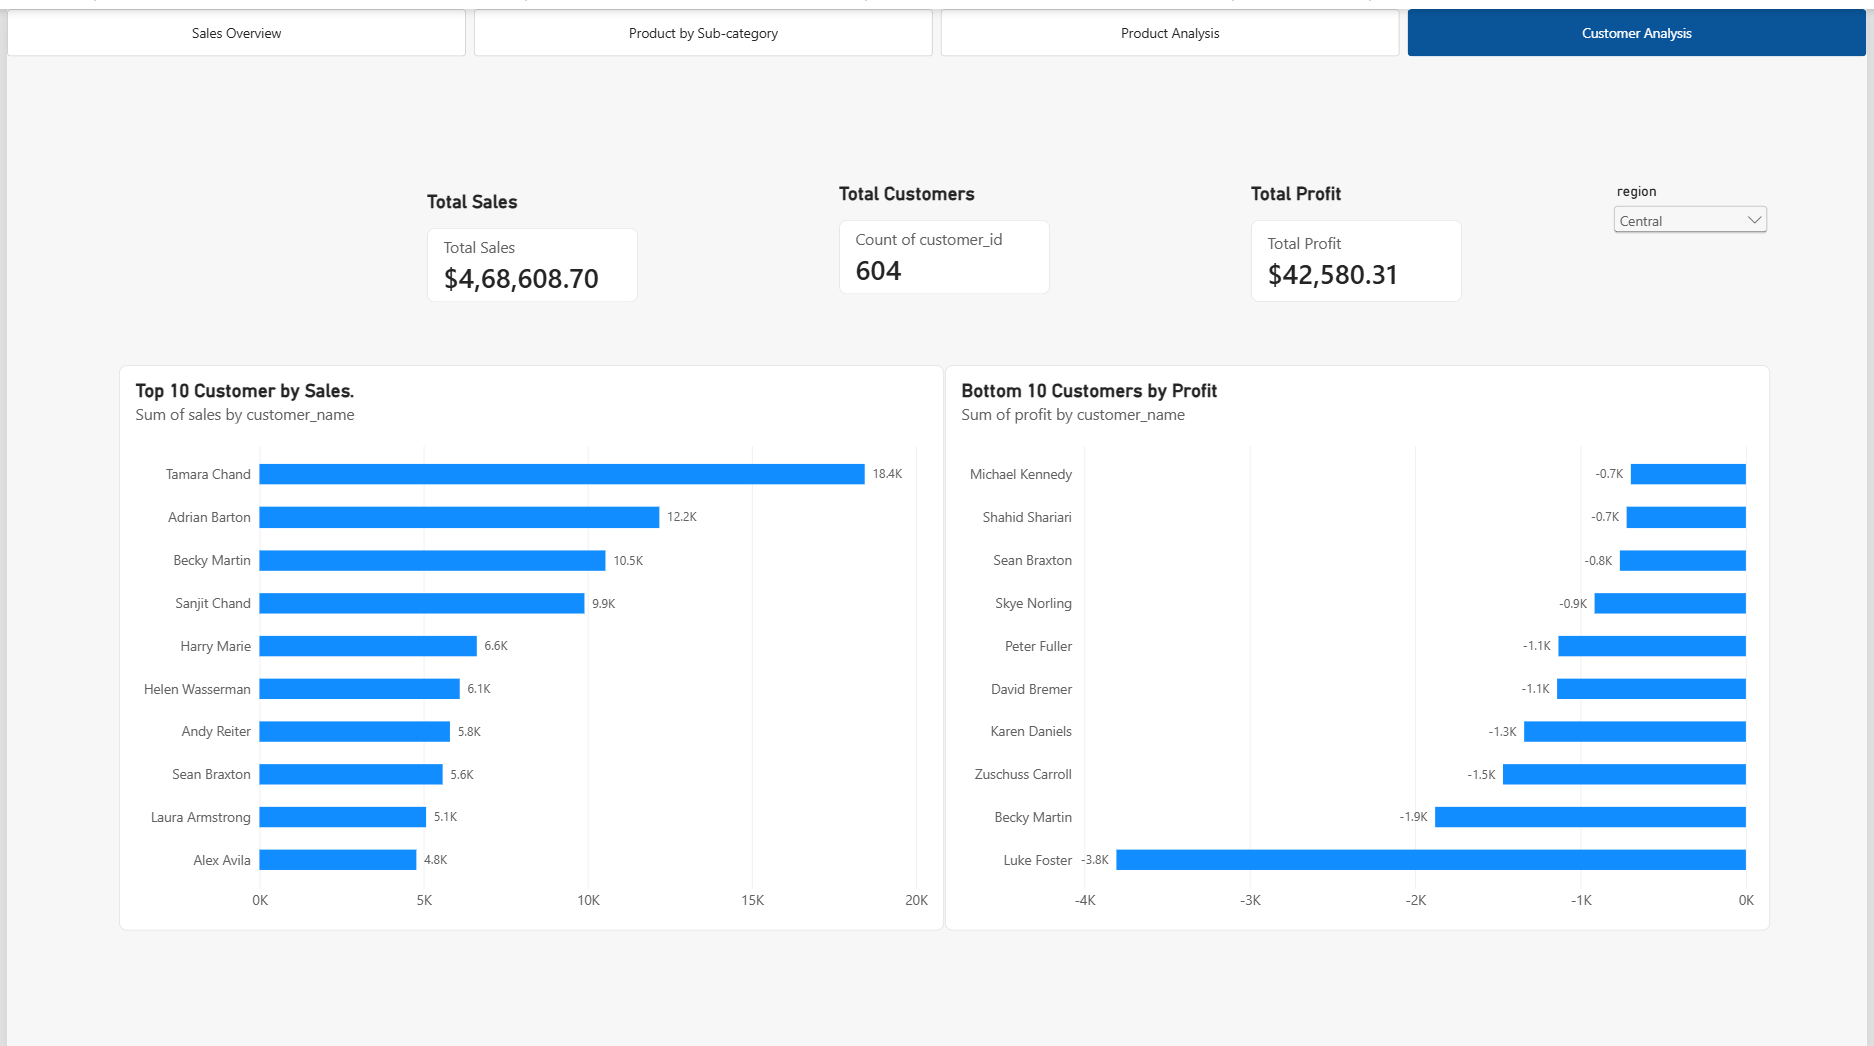

Layout of this report page (visuals, bound fields, positions):
{"tool":"powerbi","page":{"name":"Customer Analysis","canvas":[1920,1080],"ordinal":3},"visuals":[{"type":"clusteredBarChart","title":"Top 10 Customer by Sales.","fields":{"Category":["public superstore_historical.customer_name"],"Y":["Sum(public superstore_historical.sales)"]},"box":[116.3,368.6,851.9,583],"z":0},{"type":"clusteredBarChart","title":"Bottom 10 Customers by Profit","fields":{"Category":["public superstore_historical.customer_name"],"Y":["Sum(public superstore_historical.profit)"]},"box":[968.3,368.6,851.9,583],"z":1000},{"type":"cardVisual","title":"Total Customers","fields":{"Data":["Count(public superstore_historical.customer_id)"]},"box":[859,179.7,218.9,115.6],"z":2000},{"type":"cardVisual","title":"Total Sales","fields":{"Data":["public superstore_historical.Total Sales"]},"box":[433.7,187.9,218.9,115.6],"z":3000},{"type":"cardVisual","title":"Total Profit","fields":{"Data":["public superstore_historical.Total Profit"]},"box":[1284.4,179.7,218.9,123.9],"z":4000},{"type":"slicer","fields":{"Values":["public superstore_historical.region"]},"box":[1654.1,179.7,168.3,52.3],"z":7000},{"type":"pageNavigator","box":[0,0,1920.5,49.6],"z":7001}]}

Visuals, with their boxes in screenshot pixels (x1, y1, x2, y2), scaled from the page's 1920x1080 canvas onto the 1874x1046 screenshot:
"Top 10 Customer by Sales." clusteredBarChart: 114/357/945/922
"Bottom 10 Customers by Profit" clusteredBarChart: 945/357/1777/922
"Total Customers" cardVisual: 838/174/1052/286
"Total Sales" cardVisual: 423/182/637/294
"Total Profit" cardVisual: 1254/174/1467/294
slicer - public superstore_historical.region: 1614/174/1779/225
pageNavigator: 0/0/1873/48
